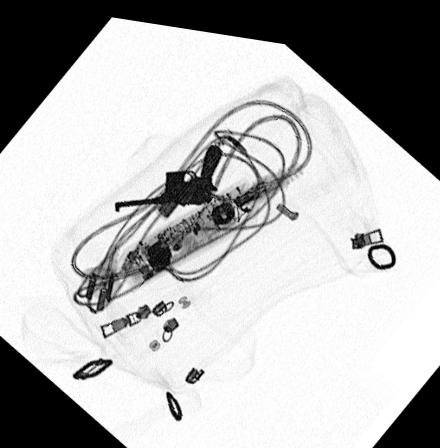Gun: (116, 137, 222, 209)
